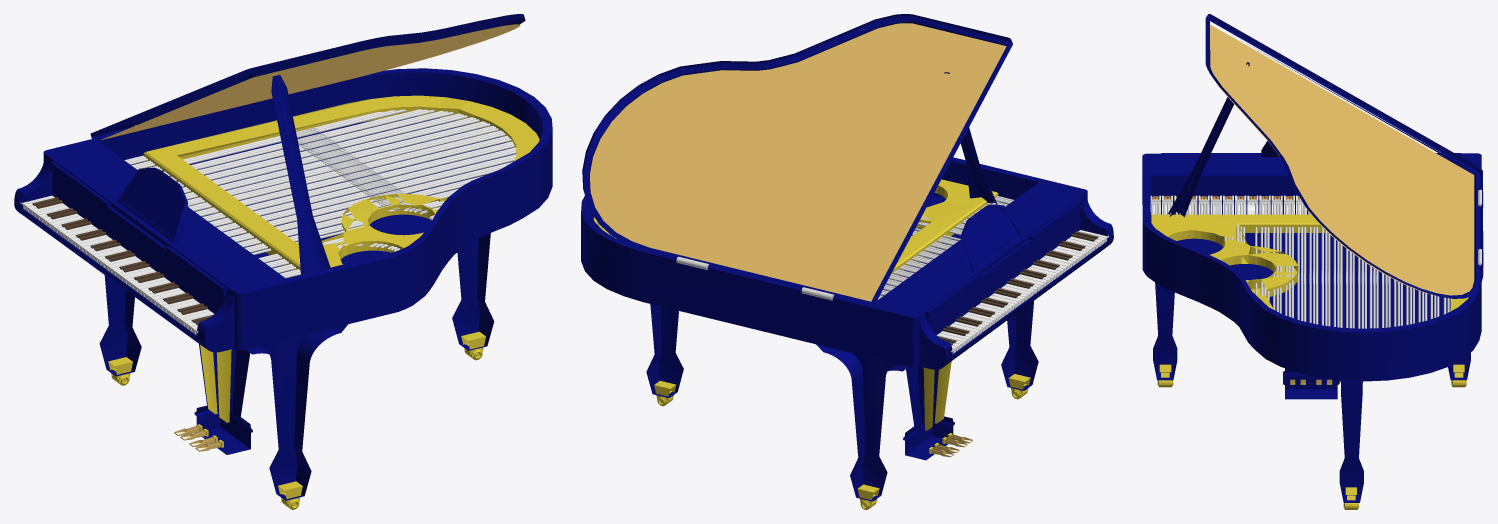
File: grand_piano.glb
3 renders of one model, left to right at view 1: azimuth 30°, elevation 25°; view 2: azimuth 150°, elevation 25°; view 3: azimuth 270°, elevation 25°, orthographic. The views are drawn at different scales.
Visible parts, largest first — view 1: Object_5, Object_9, Object_8, Object_7, Object_11, Object_13; view 2: Object_7, Object_5, Object_8, Object_11, Object_13, Object_9; view 3: Object_5, Object_7, Object_9, Object_8, Object_15.
Boxes of the visible parts, x1,y1,x2,y2 form: Object_5: (14, 14, 552, 500); Object_9: (124, 109, 516, 278); Object_8: (108, 95, 539, 509); Object_7: (100, 24, 520, 451); Object_11: (20, 195, 213, 335); Object_13: (32, 197, 213, 325); Object_7: (590, 23, 1006, 457); Object_5: (581, 14, 1113, 501); Object_8: (593, 179, 1030, 509); Object_11: (937, 230, 1108, 353); Object_13: (938, 231, 1098, 345); Object_9: (877, 196, 1013, 300); Object_5: (1142, 14, 1483, 502); Object_7: (1210, 24, 1474, 383); Object_9: (1151, 203, 1451, 328); Object_8: (1151, 214, 1468, 509); Object_15: (1150, 195, 1309, 214).
Bounding box in the file's own units: 2.3 × 2.04 × 1.72.
